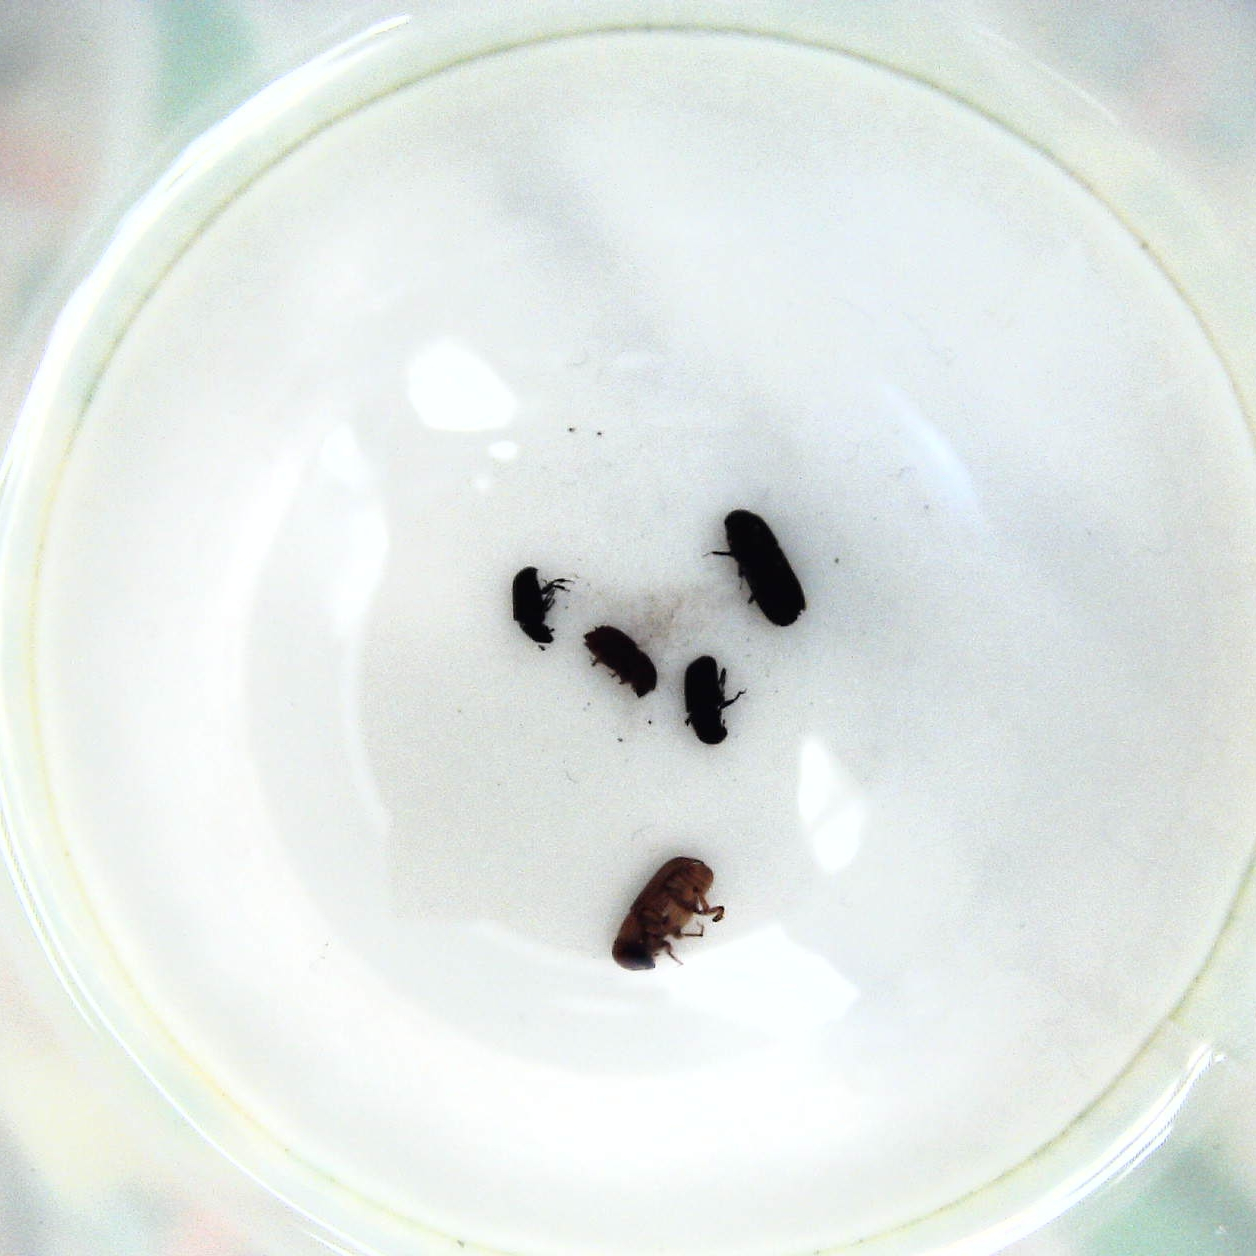Boerner: (709, 507, 811, 629)
Leconte: (608, 849, 728, 977)
armandi: (676, 653, 752, 748)
coleoptera: (503, 561, 581, 646)
linnaeus: (579, 622, 657, 697)
